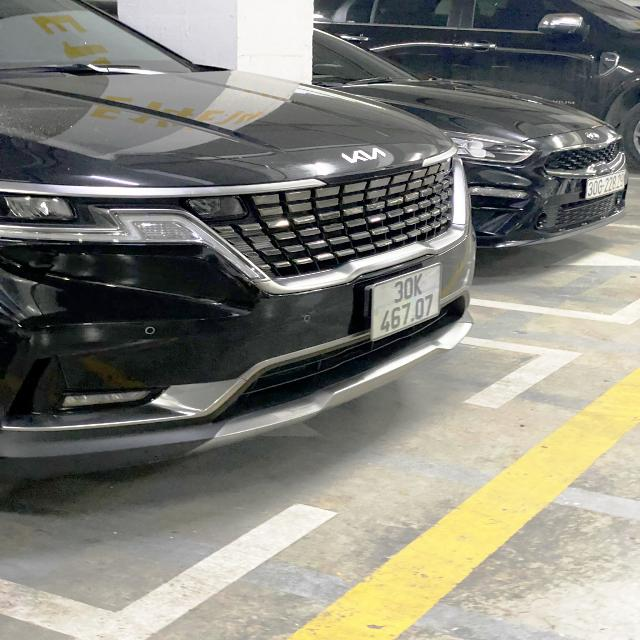license_plate: (370, 256, 446, 347), (585, 168, 628, 203)
